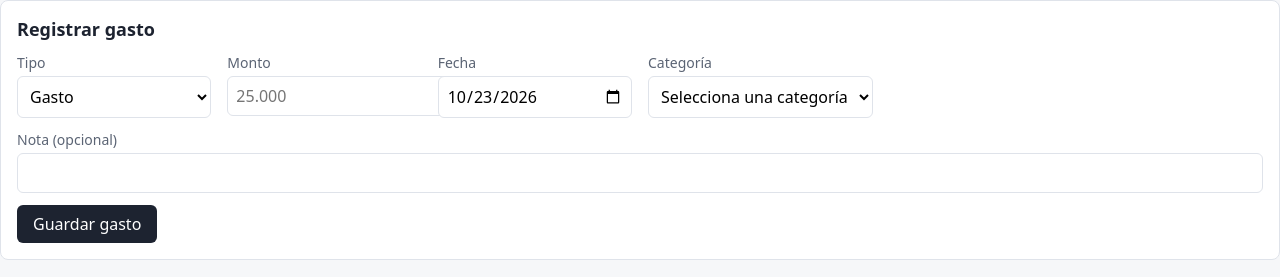
Test: TransactionForm · income (RDF-7) › renames the title and the button to match the type
This screenshot has width=1280, height=277.
Select "Ingreso" in the dropdown labelled "Tipo" at (114, 97), box [17,76,211,118]
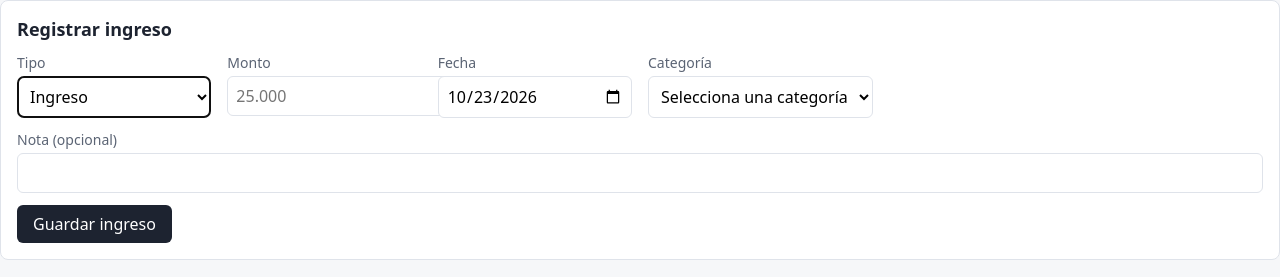
Result: the heading "Registrar ingreso" is shown at [17,17,172,41]
Result: the button "Guardar ingreso" is shown at [17,205,172,243]
